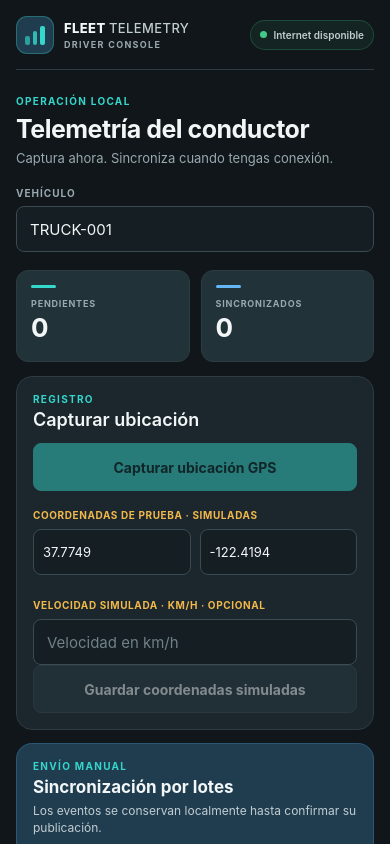
driver sync interface › rejects invalid manual speed rápido without saving an event
Check: the text "Guardar coordenadas simuladas" is shown, box left=84, top=680, right=306, bottom=698
Type "rápido" into the field named "Velocidad simulada en km/h" at (195, 642), box left=33, top=619, right=357, bottom=665
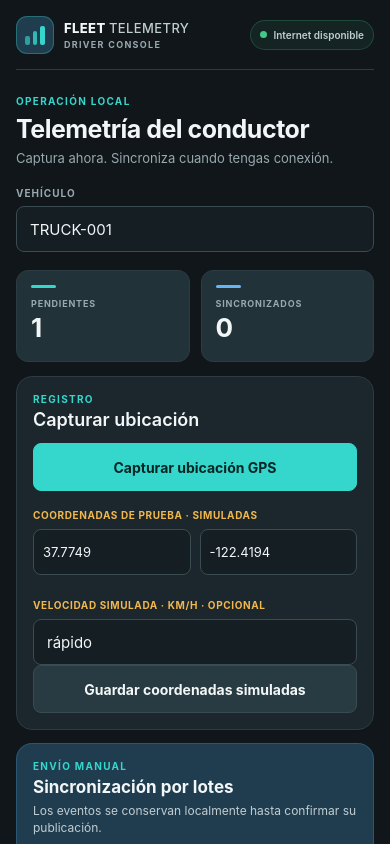
Click the button "Guardar coordenadas simuladas" at (195, 689), box left=33, top=665, right=357, bottom=713
(page scrolled)
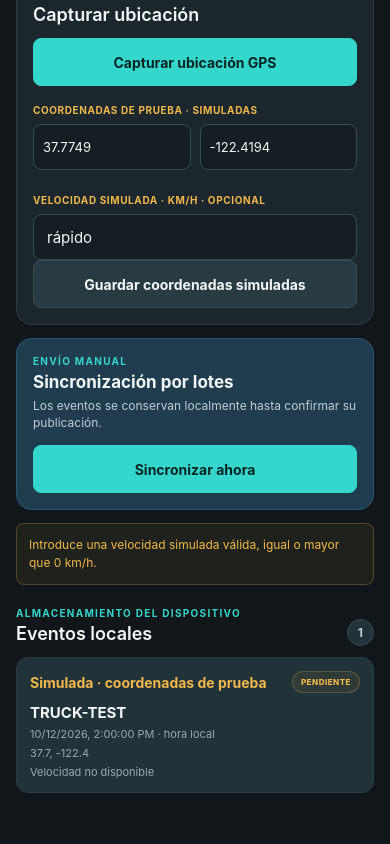
Check: the text "Introduce una velocidad simulada válida, igual o mayor que 0 km/h." is shown, box left=16, top=523, right=374, bottom=585
